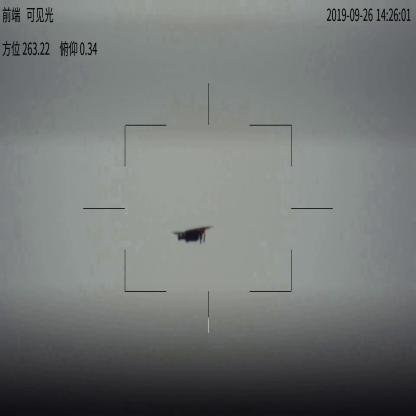uav: (168, 224, 213, 246)
